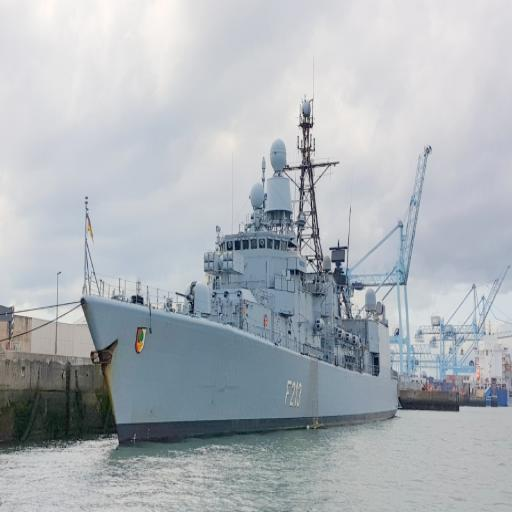Fragata: (77, 27, 406, 454)
